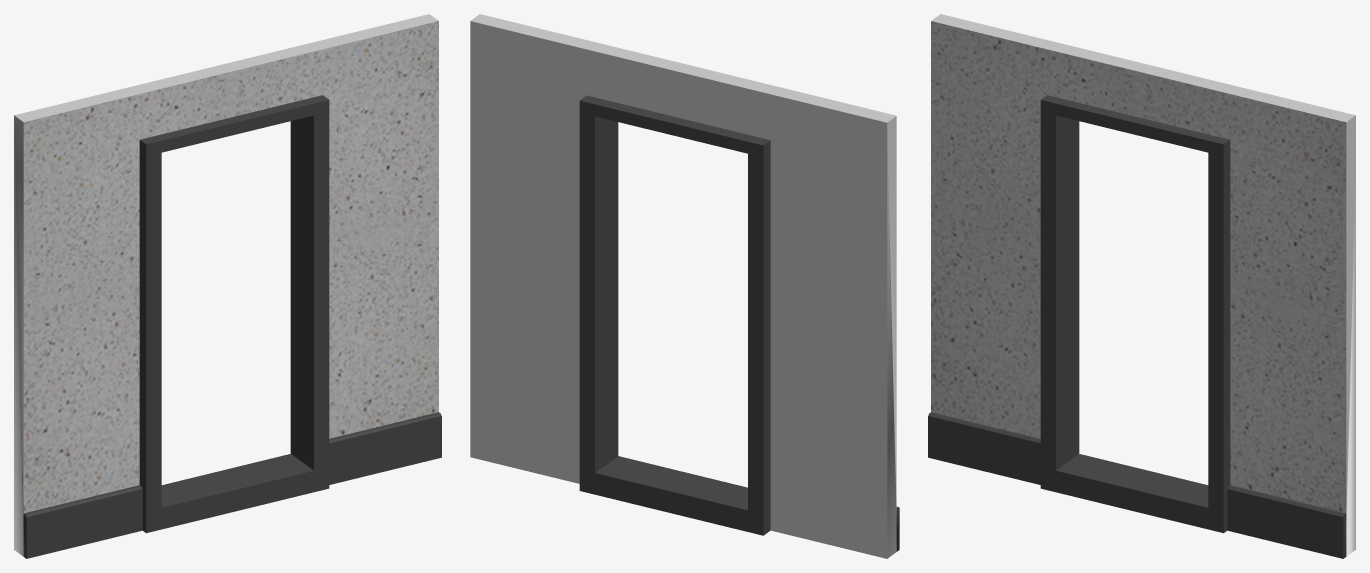
Rendered from House_Wall_Front_Door.fbx.
3 renders of one model, left to right at view 1: azimuth 30°, elevation 25°; view 2: azimuth 150°, elevation 25°; view 3: azimuth 330°, elevation 25°, orthographic.
Parts seen in each view (by area): view 1: WallFloor2_01__6_.006; view 2: WallFloor2_01__6_.006; view 3: WallFloor2_01__6_.006.
Part boxes in pixels (left/top/right/bottom): WallFloor2_01__6_.006: left=14, top=14, right=441, bottom=558; WallFloor2_01__6_.006: left=470, top=14, right=899, bottom=558; WallFloor2_01__6_.006: left=928, top=14, right=1355, bottom=558.
Bounding box in the file's own units: 250 × 250 × 24.16.
